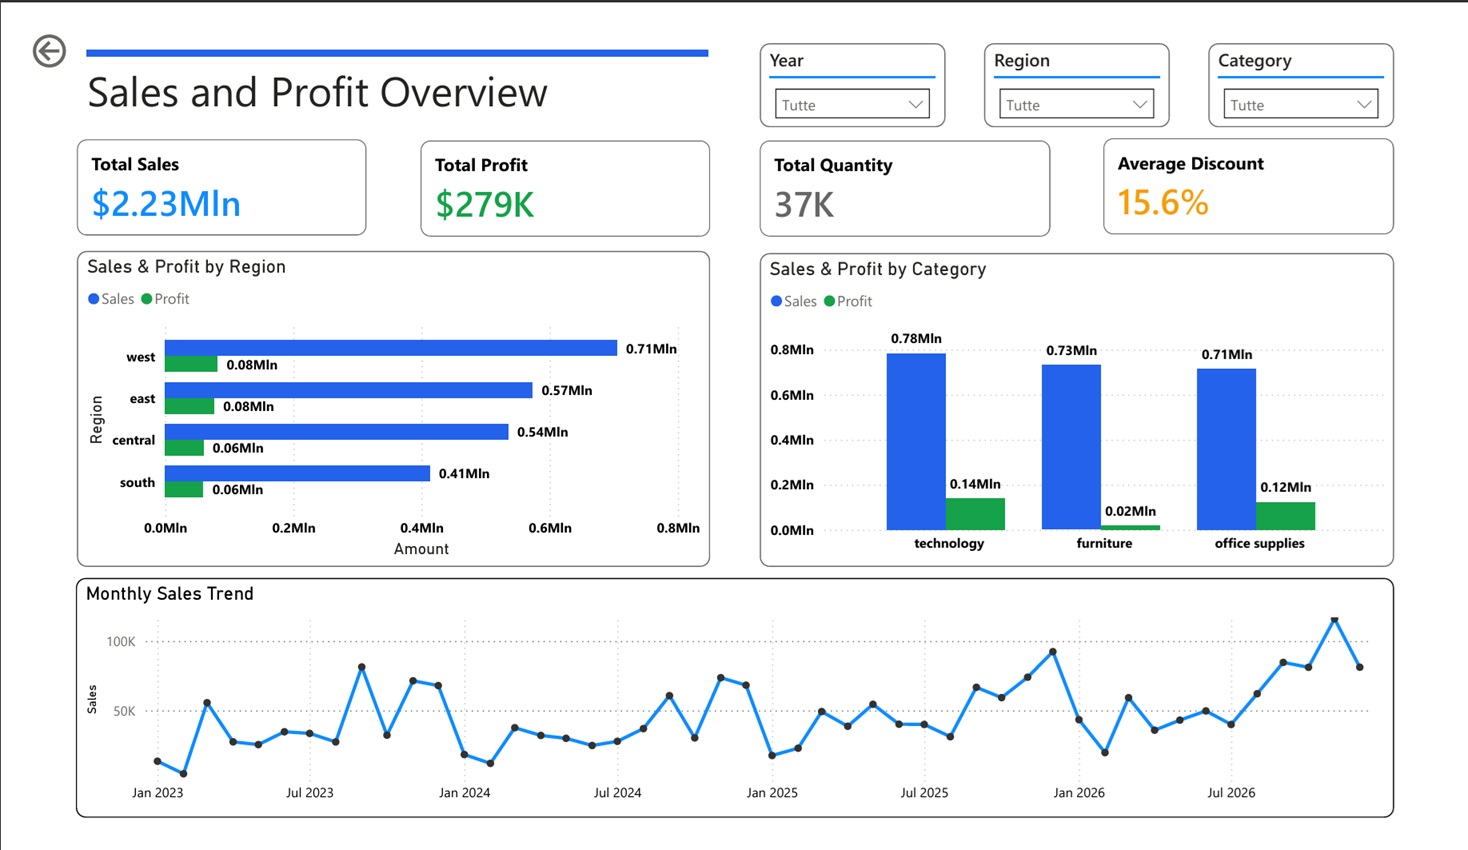

The dashboard page shown, as its layout file describes it:
{"tool":"powerbi","page":{"name":"Sales & Profit","canvas":[1280,720],"ordinal":0},"visuals":[{"type":"textbox","box":[48.5,13.7,573.6,75.9],"z":0},{"type":"slicer","title":"Year","fields":{"Values":["DIM_Date.year"]},"box":[663.2,13.4,168,75.9],"z":1000},{"type":"slicer","title":"Region","fields":{"Values":["DIM_Customers.region"]},"box":[865.8,13.4,167.9,75.9],"z":2000},{"type":"slicer","title":"Category","fields":{"Values":["DIM_Products.category"]},"box":[1068.6,13.4,167.9,75.9],"z":3000},{"type":"cardVisual","fields":{"Data":["FACT_Sales.Total Profit"]},"box":[355.8,100.5,262.5,87.1],"z":4000},{"type":"cardVisual","fields":{"Data":["FACT_Sales.Total Quantity"]},"box":[663,100.5,262.5,87.1],"z":5000},{"type":"cardVisual","fields":{"Data":["FACT_Sales.Average Discount"]},"box":[974,99.3,262.5,87.1],"z":6000},{"type":"actionButton","box":[0,0,100,40],"z":7000},{"type":"clusteredBarChart","title":"Sales & Profit by Region","fields":{"Category":["DIM_Customers.region"],"Y":["Sum(FACT_Sales.sales)","Sum(FACT_Sales.profit)"]},"box":[44.8,201.3,573.6,286.2],"z":8000},{"type":"clusteredColumnChart","title":"Sales & Profit by Category","fields":{"Category":["DIM_Products.category"],"Y":["Sum(FACT_Sales.sales)","Sum(FACT_Sales.profit)"]},"box":[663.2,202.6,573.6,284.9],"z":9000},{"type":"lineChart","title":"Monthly Sales Trend","fields":{"Y":["Sum(FACT_Sales.sales)"],"Category":["DIM_Date.date.Variazione.Gerarchia data.Anno","DIM_Date.date.Variazione.Gerarchia data.Mese"]},"box":[43.6,497.4,1193.2,216.5],"z":10000},{"type":"cardVisual","fields":{"Data":["FACT_Sales.Total Sales"]},"box":[44.8,99.5,262.5,87.1],"z":11000}]}

Visuals, with their boxes in screenshot pixels (x1, y1, x2, y2), scaled from the page's 1280x720 canvas onto the 1468x850 screenshot:
textbox: left=56, top=16, right=713, bottom=106
"Year" slicer: left=761, top=16, right=953, bottom=105
"Region" slicer: left=993, top=16, right=1186, bottom=105
"Category" slicer: left=1226, top=16, right=1418, bottom=105
cardVisual - FACT_Sales.Total Profit: left=408, top=119, right=709, bottom=221
cardVisual - FACT_Sales.Total Quantity: left=760, top=119, right=1061, bottom=221
cardVisual - FACT_Sales.Average Discount: left=1117, top=117, right=1418, bottom=220
actionButton: left=0, top=0, right=115, bottom=47
"Sales & Profit by Region" clusteredBarChart: left=51, top=238, right=709, bottom=576
"Sales & Profit by Category" clusteredColumnChart: left=761, top=239, right=1418, bottom=576
"Monthly Sales Trend" lineChart: left=50, top=587, right=1418, bottom=843
cardVisual - FACT_Sales.Total Sales: left=51, top=117, right=352, bottom=220
